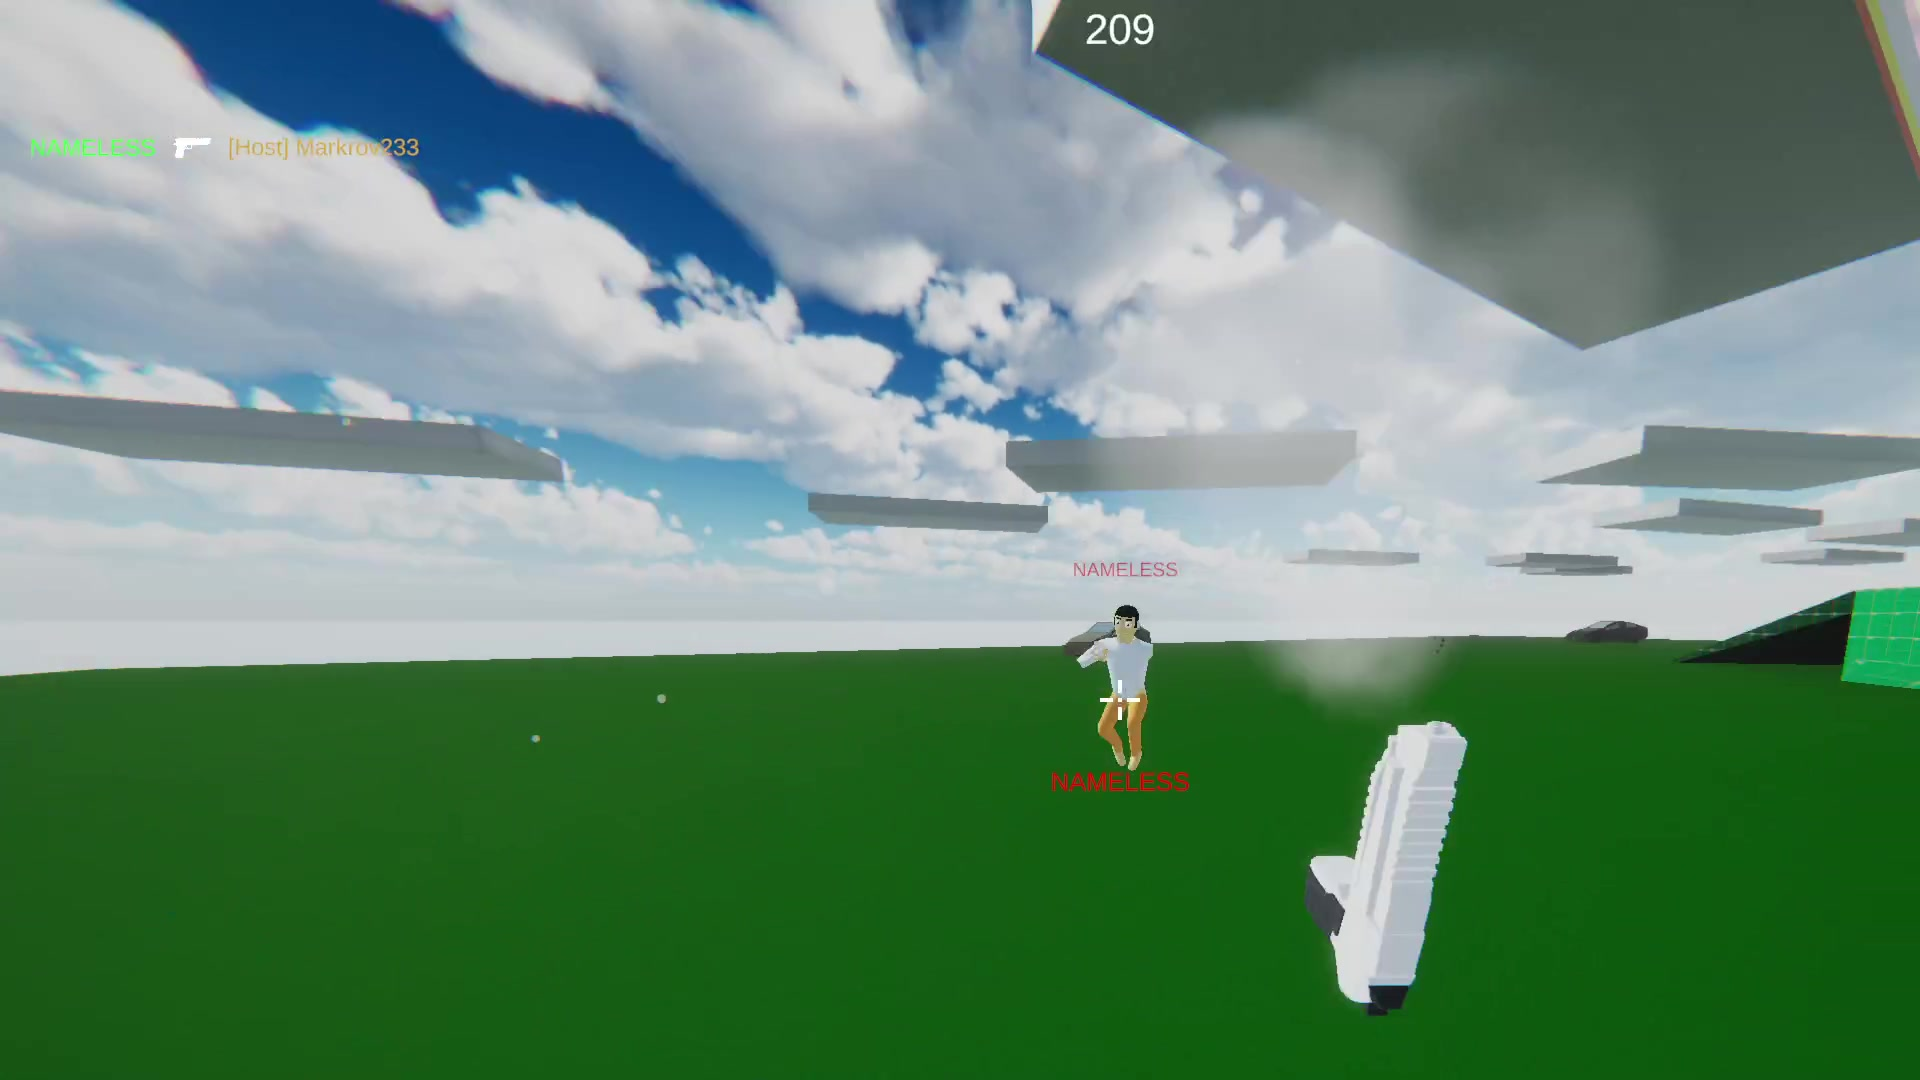human: (1090, 602, 1156, 774)
